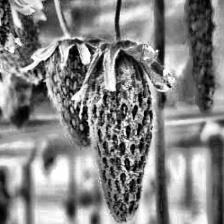Powdery Mildew Fruit: (77, 44, 155, 224), (31, 38, 100, 149)
